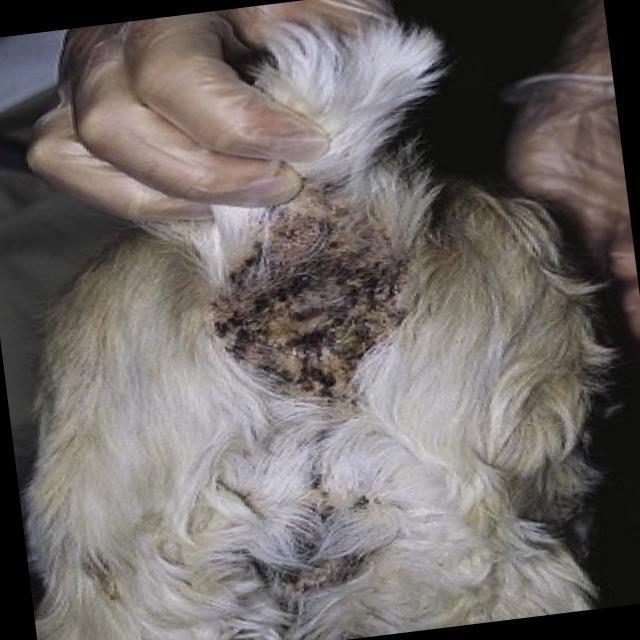allergic dermatitis: (232, 218, 385, 320), (272, 360, 378, 413), (232, 298, 282, 410), (341, 304, 387, 388)
